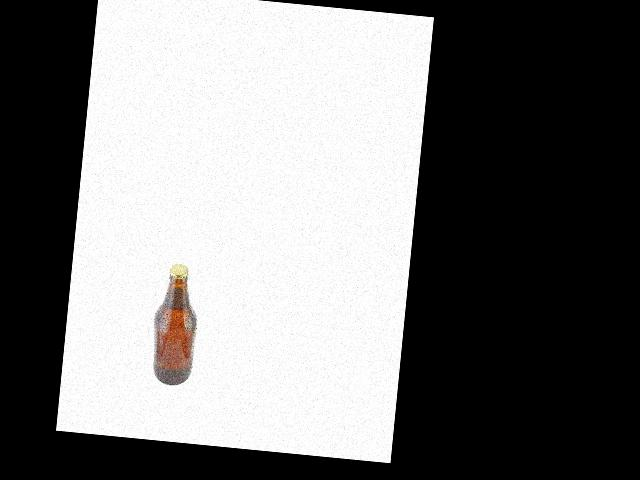beer: (151, 262, 201, 386)
